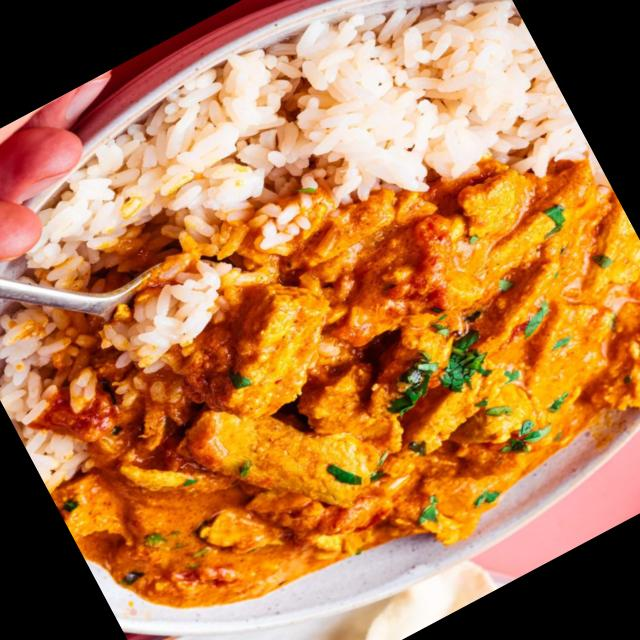chicken: (3, 106, 640, 640)
rice: (28, 0, 585, 242)
